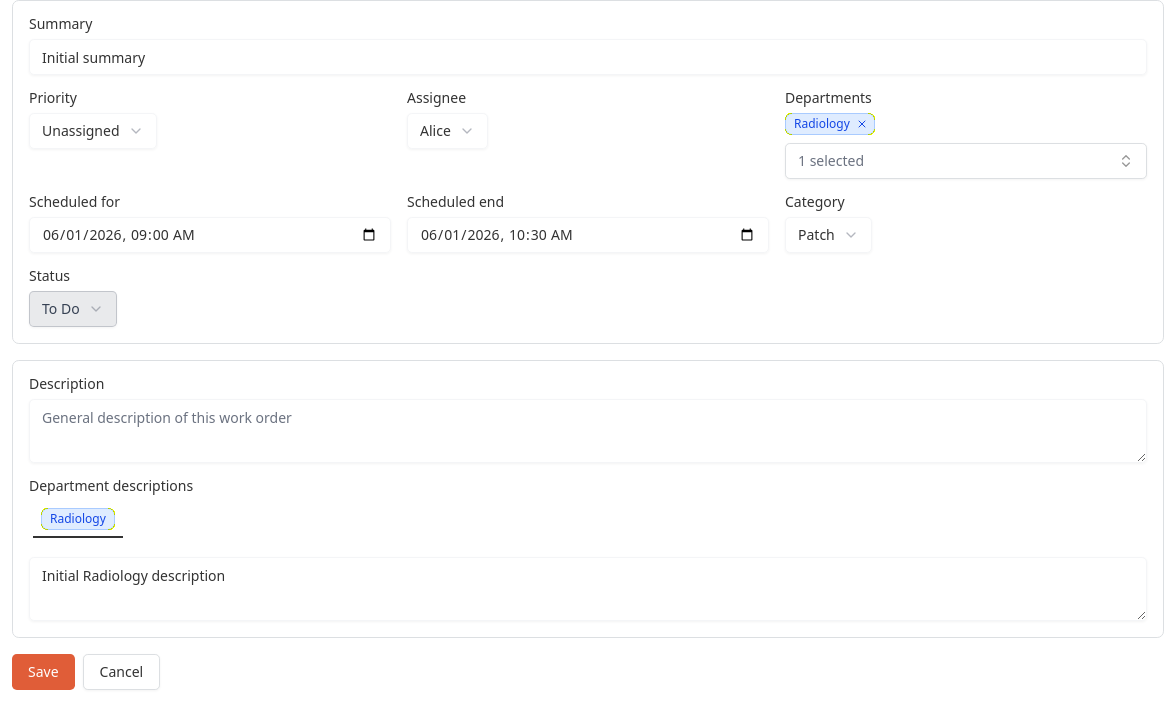
TicketEditForm › scheduled end › flags an end that is not after the start and blocks Save
Replace the text in the field labelled "Scheduled end" with "2026-06-01T08:00": (588, 235) x1=407 y1=217 x2=769 y2=253
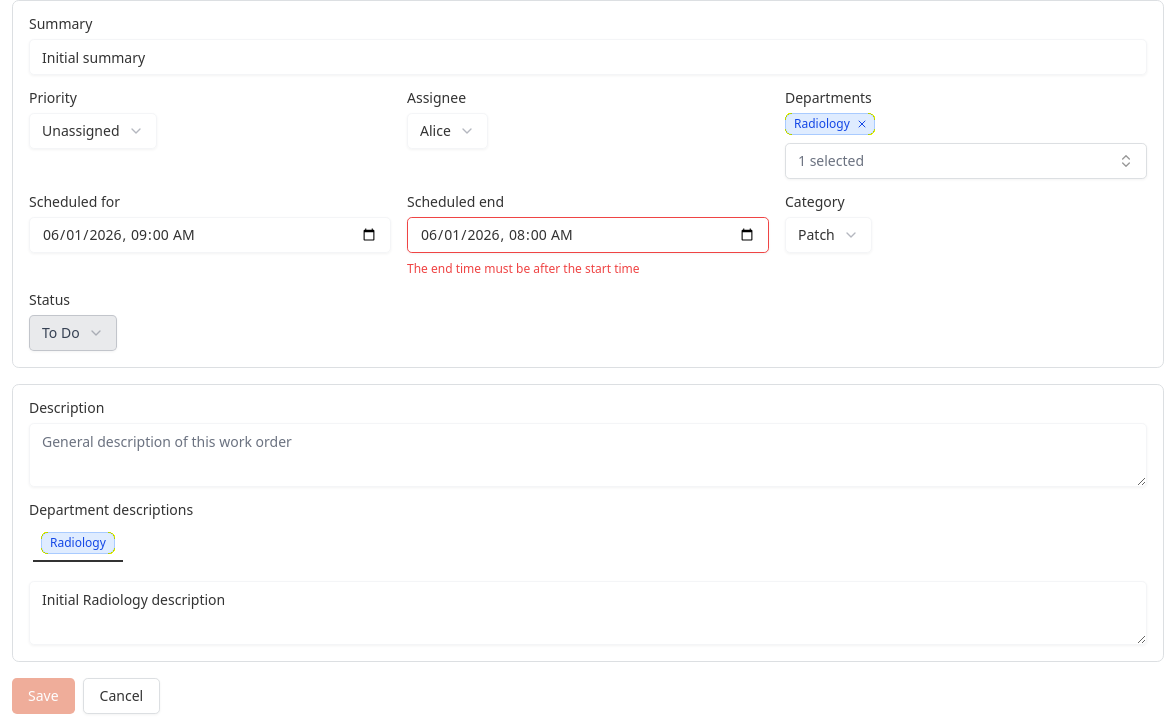
Check: the button "Save" is disabled, box x1=12 y1=678 x2=75 y2=714
